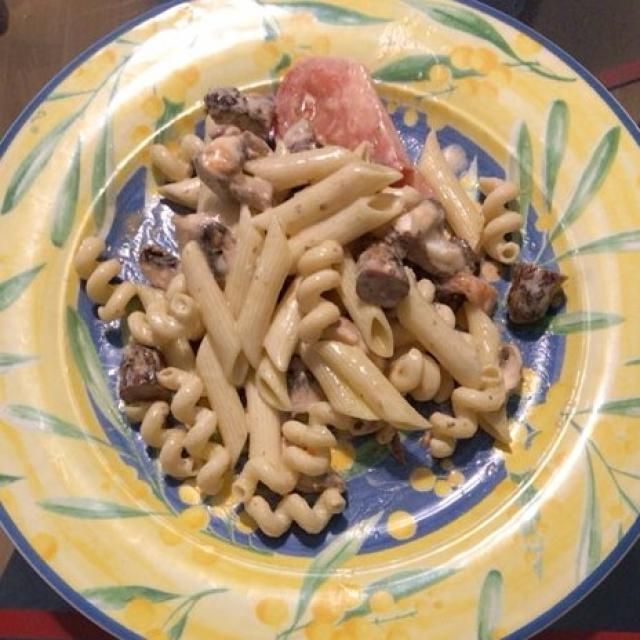pasta: (76, 118, 535, 544)
tomato: (266, 60, 426, 195)
